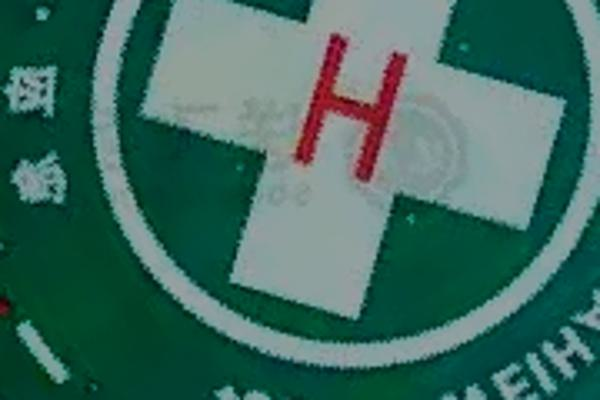Apron: (80, 2, 600, 382)
